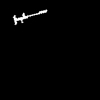double_crochet: (13, 10, 46, 24)
